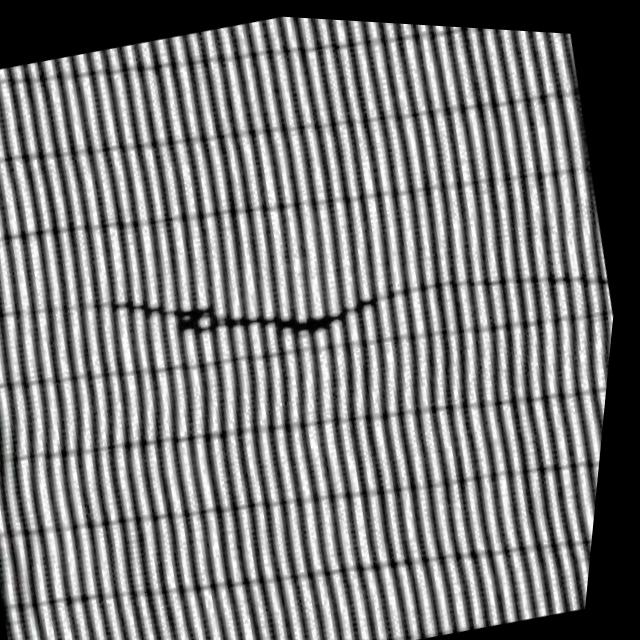Stitch: (81, 209, 412, 401)
